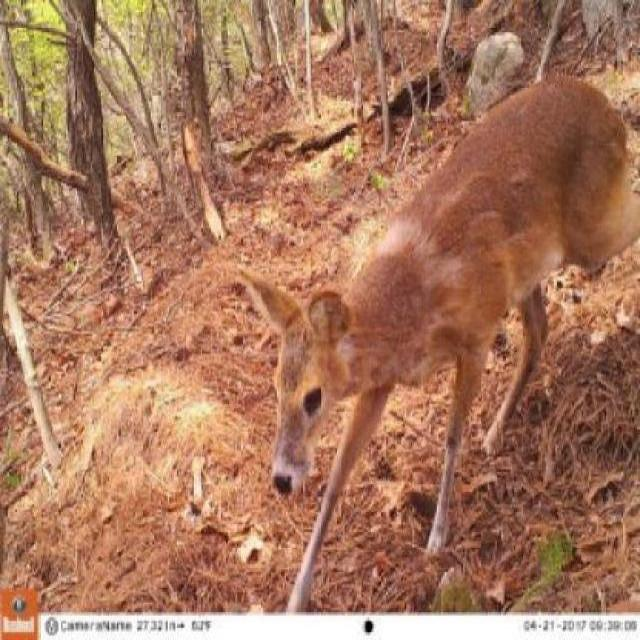deer: (218, 78, 638, 615)
